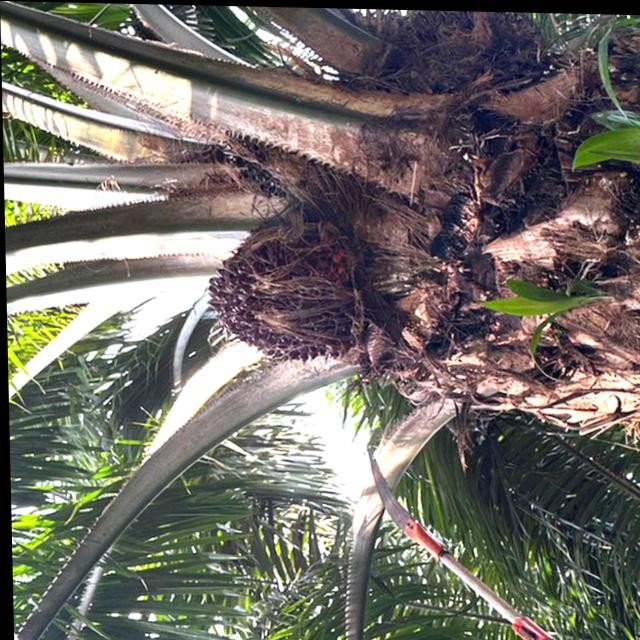ripe: (198, 227, 364, 364)
